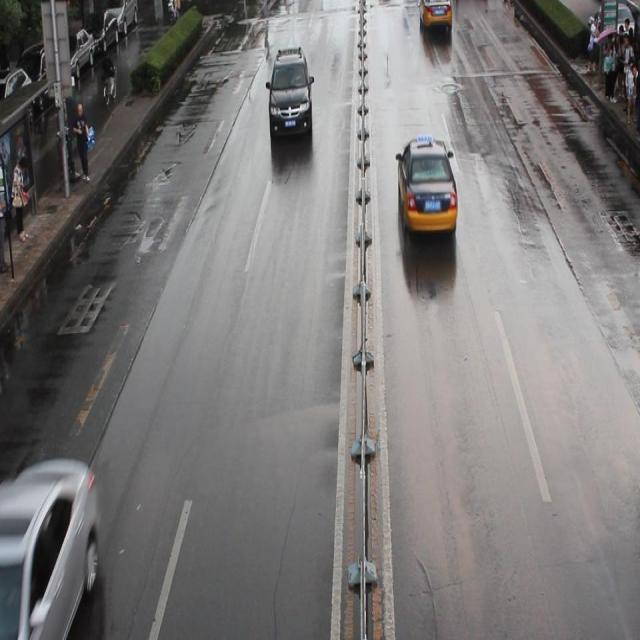car: (1, 456, 100, 640), (396, 136, 456, 236), (267, 49, 313, 142), (418, 1, 452, 31)
